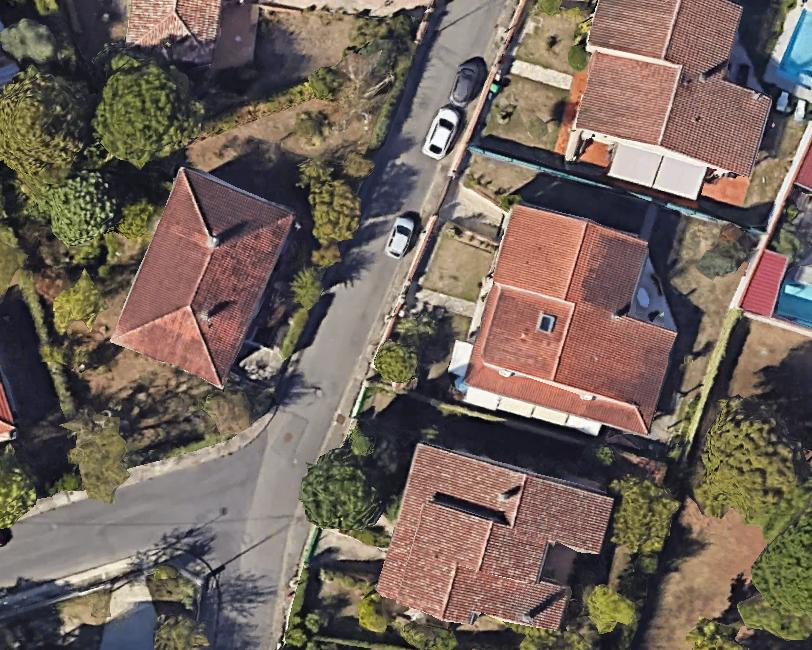maison: (442, 195, 697, 447), (373, 441, 615, 650), (559, 0, 793, 193), (107, 163, 300, 390), (124, 0, 221, 63)
